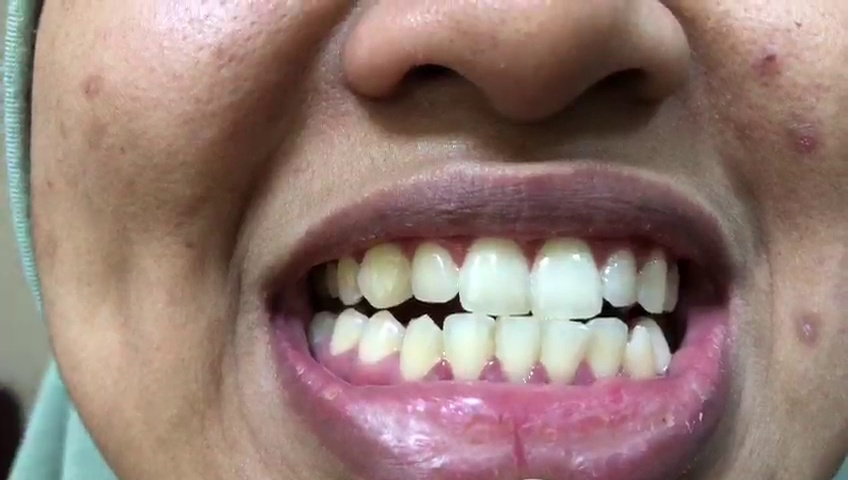1st Molar: (306, 313, 336, 352)
1st Premolar: (358, 311, 403, 367), (640, 314, 670, 372), (340, 255, 362, 307), (666, 261, 681, 313)
2nd Premolar: (330, 312, 368, 356)
Canine: (358, 240, 413, 309), (402, 310, 443, 382), (624, 325, 661, 378), (636, 248, 665, 314)
Central Incisor: (458, 233, 534, 316), (532, 234, 603, 320), (542, 316, 589, 387), (498, 316, 542, 384)
Lateral Incisor: (444, 311, 497, 383), (410, 240, 459, 306), (586, 316, 627, 383), (601, 248, 636, 309)
